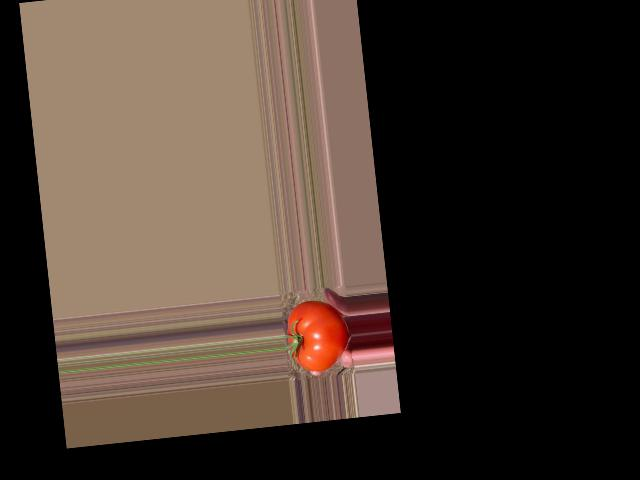tomato: (284, 298, 352, 374)
